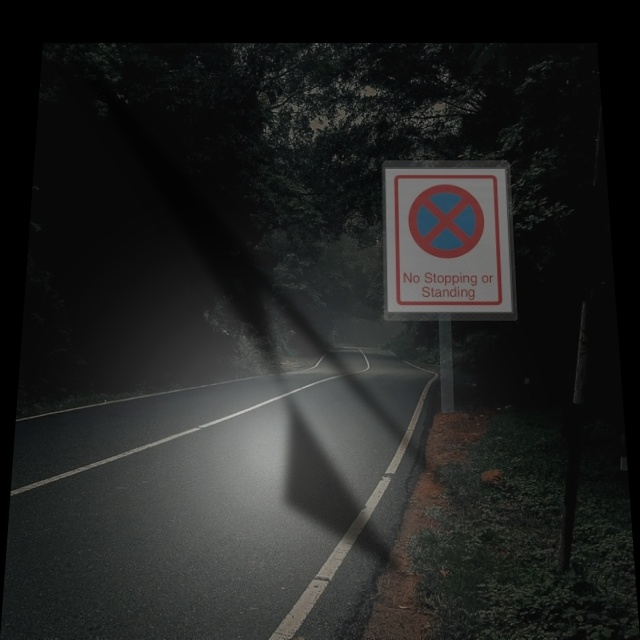No_Stopping_or_Standing: (399, 179, 495, 268)
